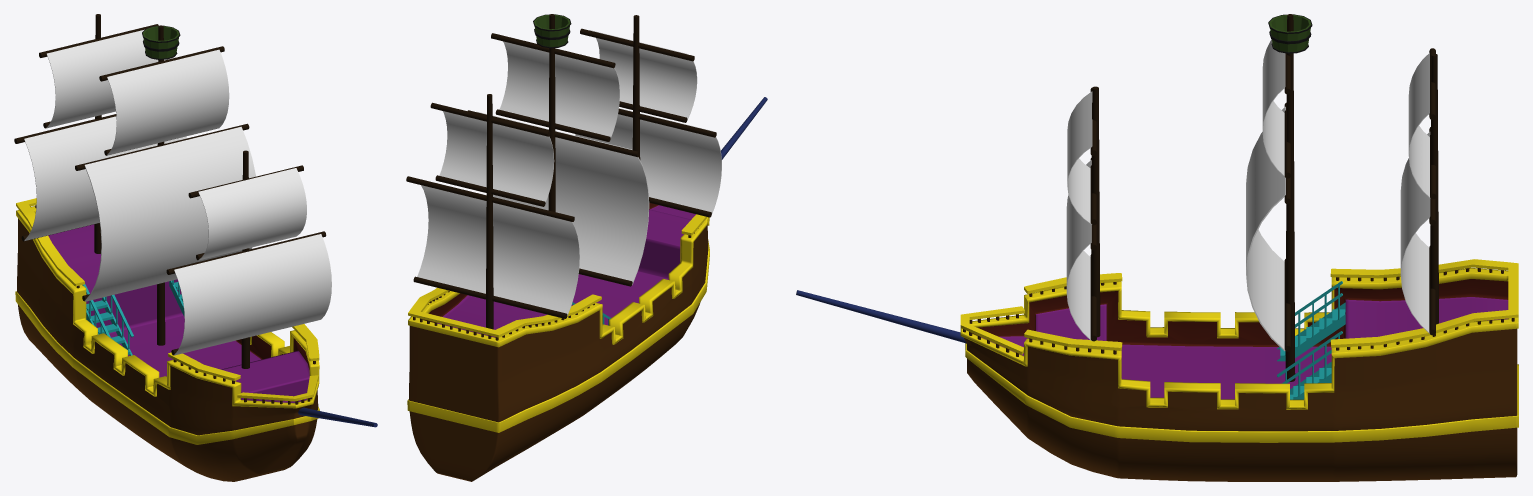
File: stairs_pirate_ship_textured_v1.fbx
3 renders of one model, left to right at view 1: azimuth 30°, elevation 25°; view 2: azimuth 150°, elevation 25°; view 3: azimuth 270°, elevation 25°, orthographic. The views are drawn at different scales.
Parts seen in each view (by area): view 1: body_high (×4), middleSail2_high, frontSail2_high, middleSail1_high, backSail2_high, frontSail1_high, backSail1_high, pole_high, leftStairs_high, middleFence_high, backFence_high, watch_high (+2 smaller); view 2: body_high (×3), backSail2_high, pole_high, middleSail2_high, middleSail1_high, backSail1_high, frontSail2_high, frontSail1_high, backFence_high, watch_high, nose_high; view 3: body_high (×4), pole_high, middleSail2_high, backSail2_high, backFence_high, frontSail2_high, frontSail1_high, middleSail1_high, backSail1_high, leftStairs_high, middleFence_high, nose_high (+4 smaller).
Part boxes in pixels (x1=…): body_high (×4): x1=15, y1=206, x2=319, y2=481; middleSail2_high: x1=84, y1=126, x2=255, y2=301; frontSail2_high: x1=174, y1=234, x2=331, y2=355; middleSail1_high: x1=107, y1=49, x2=229, y2=155; backSail2_high: x1=24, y1=116, x2=186, y2=240; frontSail1_high: x1=198, y1=168, x2=306, y2=260; backSail1_high: x1=46, y1=29, x2=158, y2=128; pole_high: x1=14, y1=14, x2=326, y2=368; leftStairs_high: x1=82, y1=284, x2=133, y2=355; middleFence_high: x1=168, y1=324, x2=319, y2=380; backFence_high: x1=16, y1=198, x2=84, y2=286; watch_high: x1=143, y1=26, x2=179, y2=58; body_high (×3): x1=407, y1=205, x2=709, y2=481; backSail2_high: x1=417, y1=185, x2=579, y2=315; pole_high: x1=406, y1=14, x2=716, y2=329; middleSail2_high: x1=476, y1=111, x2=649, y2=284; middleSail1_high: x1=499, y1=41, x2=619, y2=138; backSail1_high: x1=439, y1=111, x2=554, y2=202; frontSail2_high: x1=575, y1=108, x2=721, y2=214; frontSail1_high: x1=589, y1=30, x2=697, y2=119; backFence_high: x1=408, y1=287, x2=601, y2=337; watch_high: x1=534, y1=14, x2=570, y2=46; nose_high: x1=721, y1=97, x2=767, y2=159; body_high (×4): x1=960, y1=268, x2=1518, y2=481; pole_high: x1=1090, y1=14, x2=1438, y2=381; middleSail2_high: x1=1246, y1=106, x2=1285, y2=351; backSail2_high: x1=1400, y1=132, x2=1430, y2=333; backFence_high: x1=1330, y1=259, x2=1518, y2=347; frontSail2_high: x1=1066, y1=160, x2=1091, y2=340; frontSail1_high: x1=1067, y1=91, x2=1092, y2=224; middleSail1_high: x1=1262, y1=39, x2=1285, y2=176; backSail1_high: x1=1408, y1=53, x2=1430, y2=198; leftStairs_high: x1=1277, y1=281, x2=1345, y2=361; middleFence_high: x1=1024, y1=273, x2=1122, y2=350; nose_high: x1=796, y1=290, x2=966, y2=343.
Size of the model in its own units: 7 by 15.34 by 22.23.
